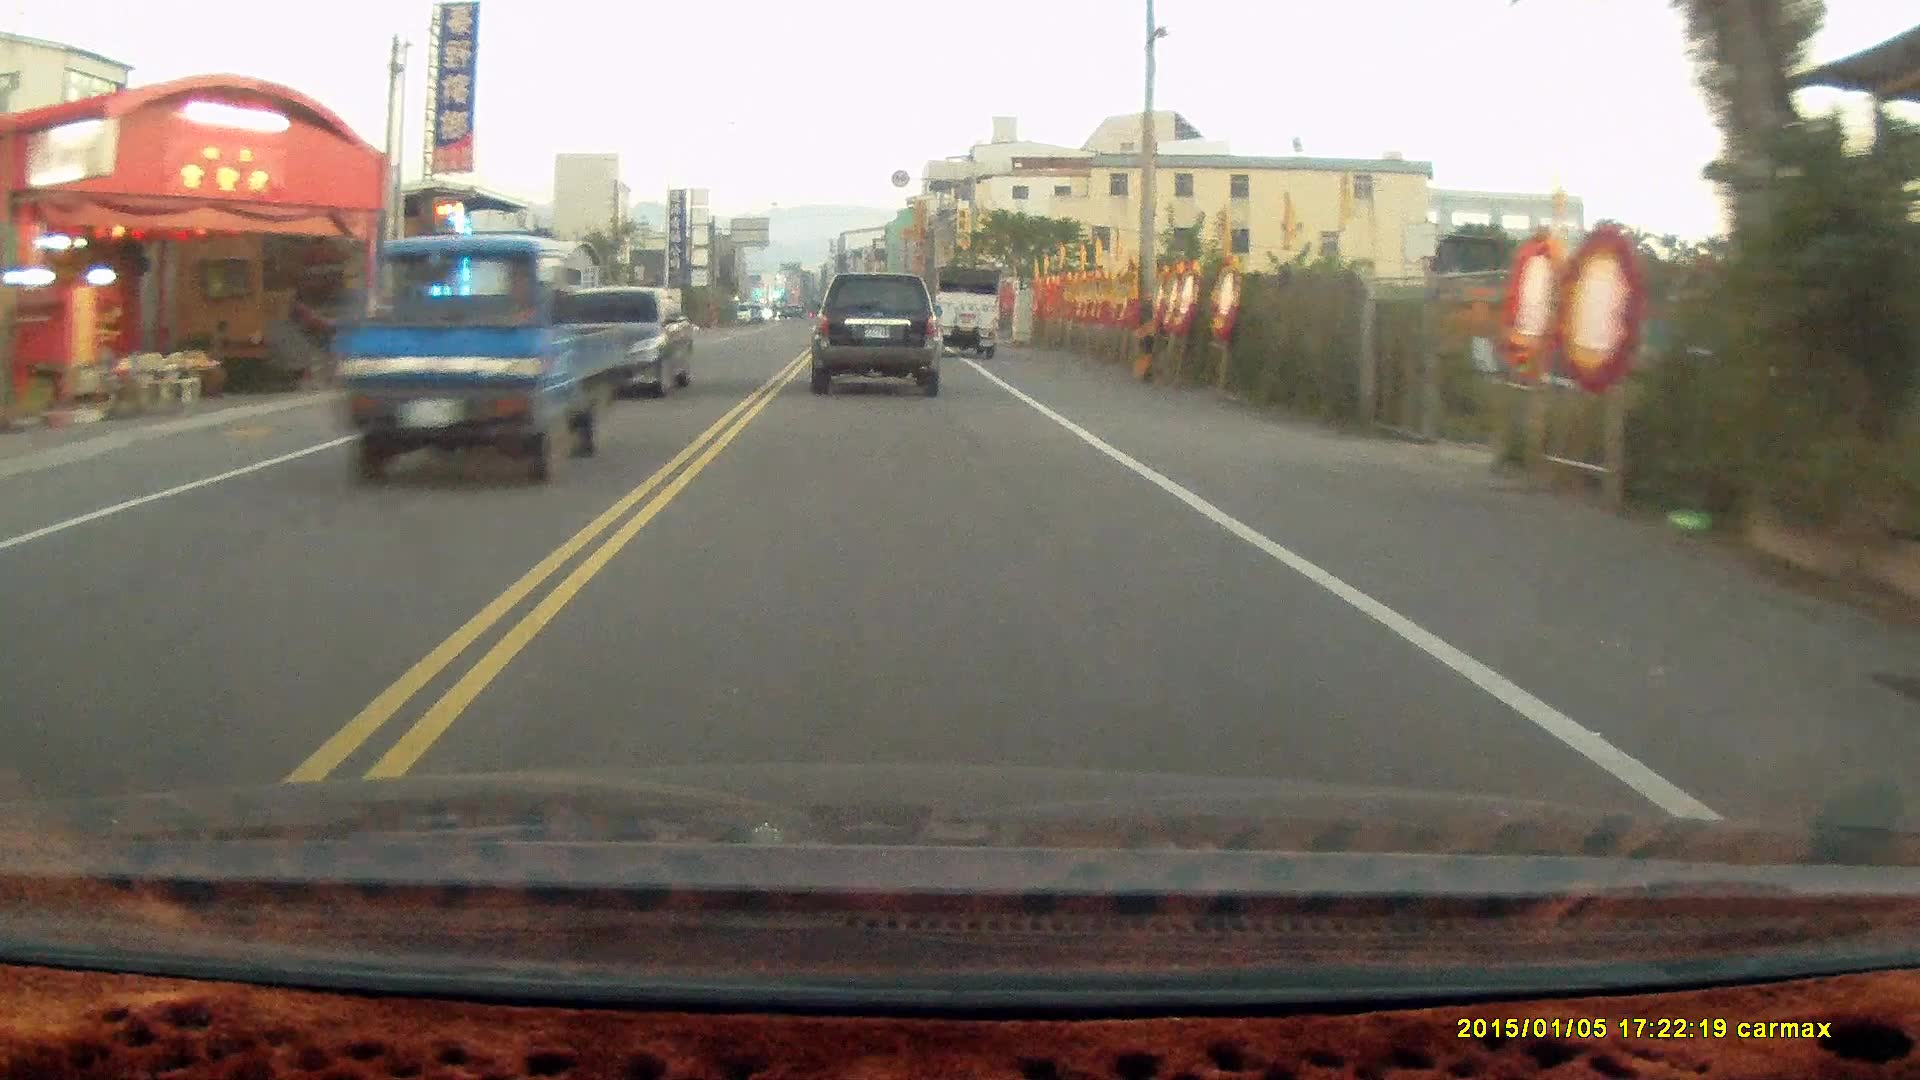vehicle: (334, 233, 628, 475), (808, 268, 945, 396), (551, 284, 694, 402), (934, 262, 1004, 359)
